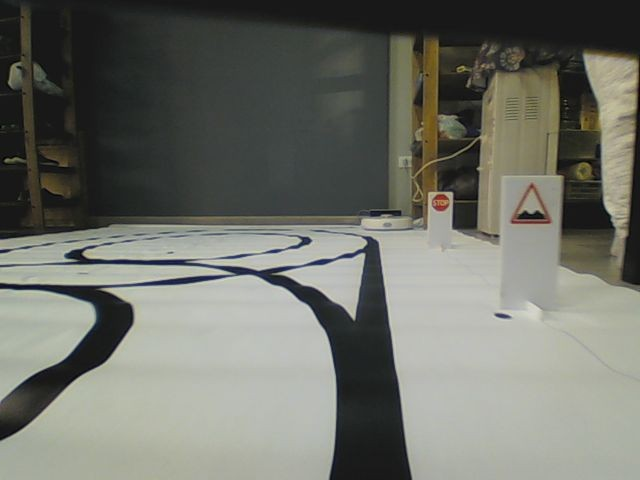Stop: (432, 194, 450, 212)
